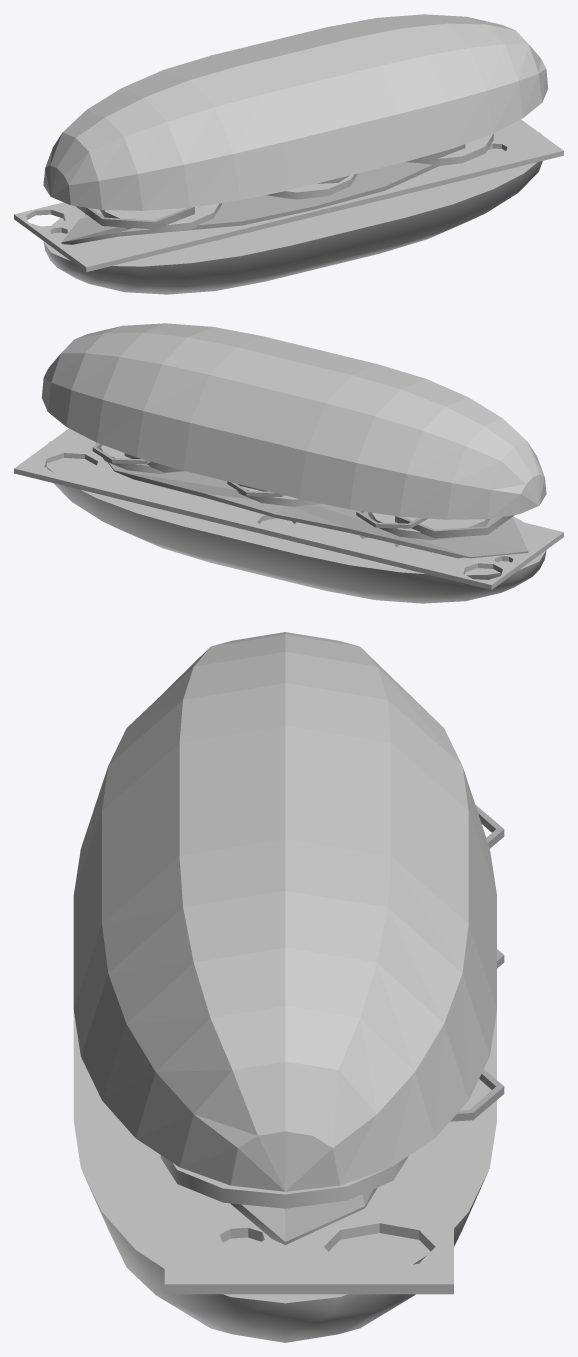
File: Foot Long.FBX
3 views of the same model, one above another, from view 1: azimuth 30°, elevation 25°; view 2: azimuth 150°, elevation 25°; view 3: azimuth 270°, elevation 25° (orthographic). The views are drawn at different scales.
Visible parts, largest first — view 1: SubTopBun, SubBottomBun, SubCheese, SubLettuce, Tomato4, OnionRing1, Tomato5, Tomato6; view 2: SubTopBun, SubBottomBun, SubCheese, SubLettuce, Tomato4, OnionRing1, Tomato5, Tomato6, Pepper1, Pepper3; view 3: SubTopBun, SubBottomBun, SubCheese, Tomato6, SubLettuce, Pepper3.
Part boxes in pixels (bbox=[...]): SubTopBun: bbox=[43, 14, 548, 210]; SubBottomBun: bbox=[43, 132, 542, 294]; SubCheese: bbox=[14, 119, 563, 271]; SubLettuce: bbox=[61, 162, 438, 244]; Tomato4: bbox=[100, 203, 221, 232]; OnionRing1: bbox=[75, 206, 194, 229]; Tomato5: bbox=[266, 173, 357, 199]; Tomato6: bbox=[419, 133, 493, 166]; SubTopBun: bbox=[41, 323, 546, 519]; SubBottomBun: bbox=[46, 441, 546, 603]; SubCheese: bbox=[14, 428, 563, 589]; SubLettuce: bbox=[107, 462, 528, 558]; Tomato4: bbox=[368, 512, 490, 540]; OnionRing1: bbox=[395, 515, 514, 538]; Tomato5: bbox=[237, 486, 322, 506]; Tomato6: bbox=[96, 442, 183, 473]; Pepper1: bbox=[356, 510, 427, 528]; Pepper3: bbox=[92, 443, 150, 464]; SubTopBun: bbox=[73, 632, 496, 1191]; SubBottomBun: bbox=[73, 1010, 496, 1342]; SubCheese: bbox=[164, 1121, 453, 1294]; Tomato6: bbox=[160, 1155, 408, 1208]; SubLettuce: bbox=[230, 1187, 377, 1245]; Pepper3: bbox=[450, 1069, 504, 1121].
Bounding box in the file's own units: 157 × 62.52 × 59.56.
